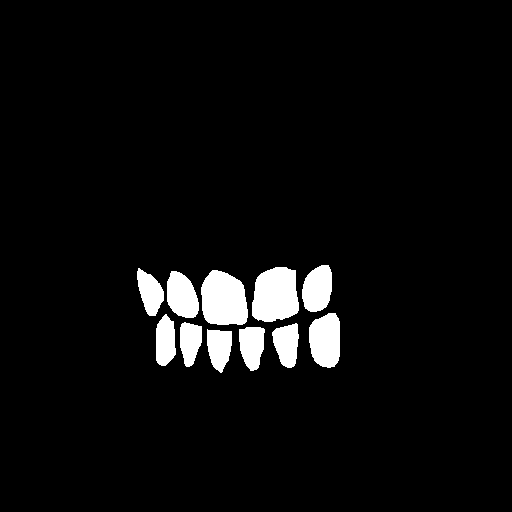tooth: (250, 259, 301, 323), (200, 263, 249, 327), (162, 265, 200, 320), (308, 313, 341, 369), (132, 263, 165, 318), (269, 322, 300, 372), (301, 265, 332, 312), (238, 325, 267, 373), (151, 314, 176, 367), (205, 325, 232, 374), (179, 320, 202, 367)
